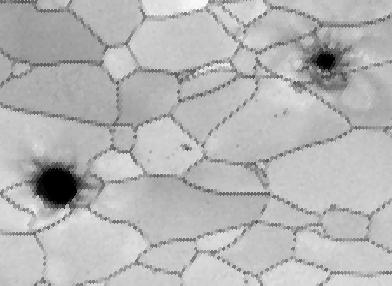good_void: (23, 150, 103, 213), (285, 27, 351, 102), (179, 142, 194, 153), (382, 123, 392, 138), (165, 152, 175, 160), (242, 276, 250, 286), (282, 107, 289, 116), (235, 142, 241, 149), (147, 148, 154, 154), (273, 112, 278, 118), (147, 157, 151, 164)
